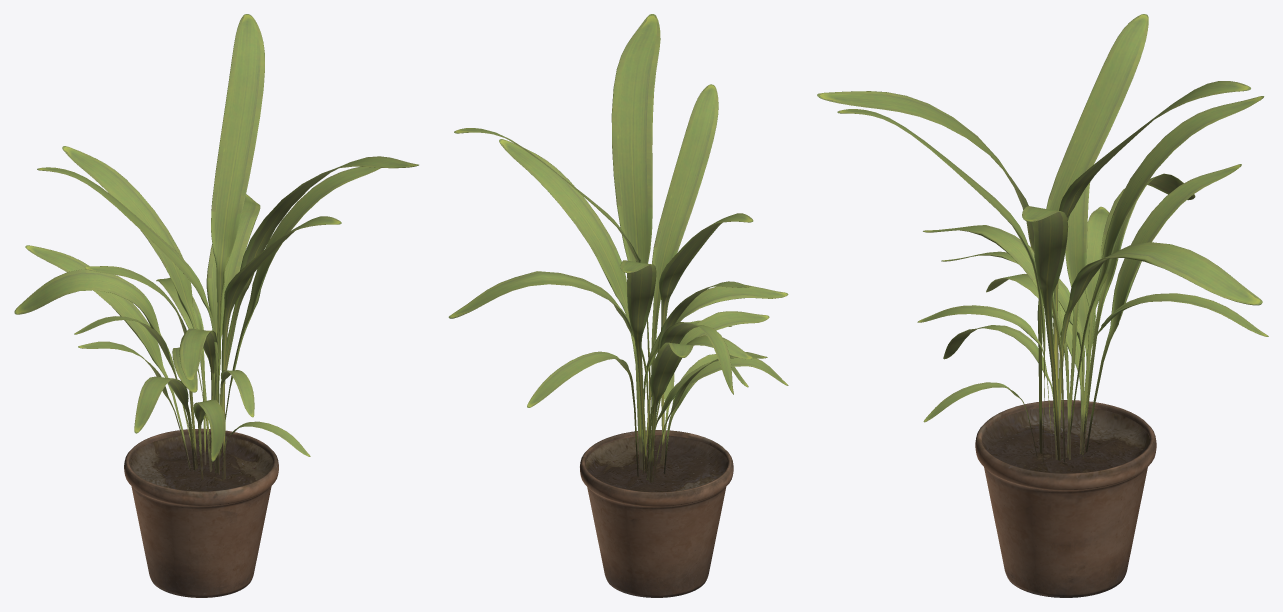
File: palm_plant.glb
The picture shows the model from 3 angles, left to right: view 1: azimuth 30°, elevation 25°; view 2: azimuth 150°, elevation 25°; view 3: azimuth 270°, elevation 25°; orthographic projection. The views are drawn at different scales.
Parts seen in each view (by area): view 1: Pflanze; view 2: Pflanze; view 3: Pflanze.
Boxes of the visible parts, <box> form: Pflanze: <box>14,14,418,597</box>; Pflanze: <box>448,14,788,597</box>; Pflanze: <box>817,14,1268,597</box>.
Bounding box in the file's own units: 172 × 254 × 187.
1 material, 1 textured.
